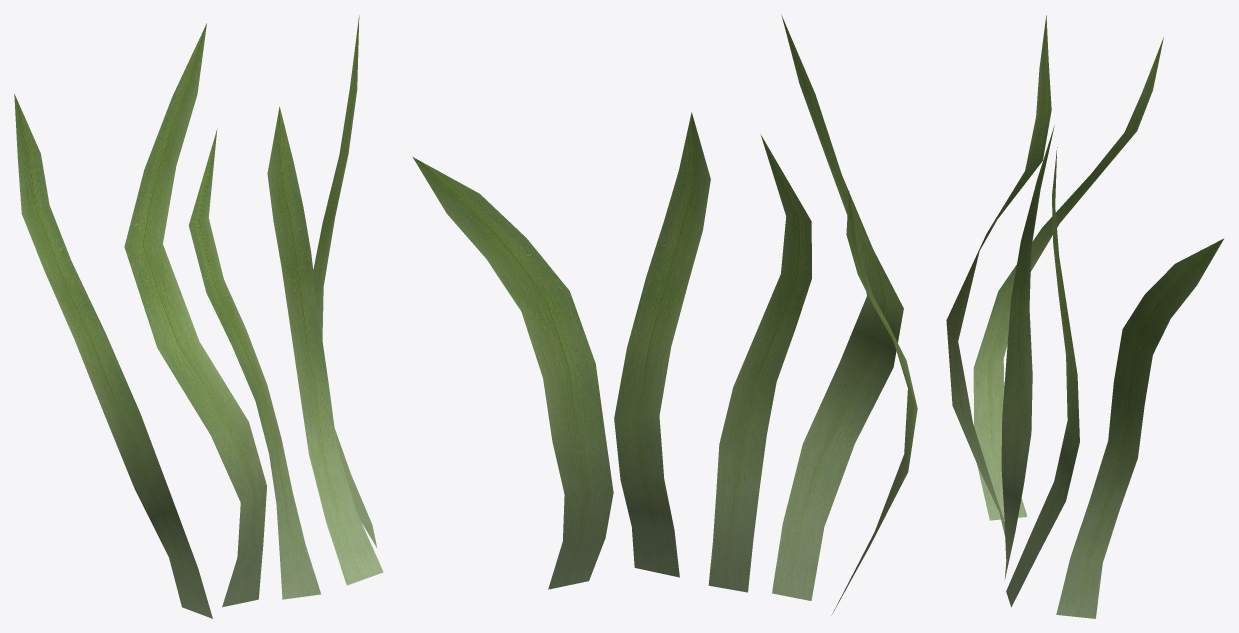
The model's file is grass_blades_0.fbx.
The picture shows the model from 3 angles, left to right: view 1: azimuth 30°, elevation 25°; view 2: azimuth 150°, elevation 25°; view 3: azimuth 270°, elevation 25°; orthographic projection. The views are drawn at different scales.
Visible parts, largest first — view 1: grass_blades_0; view 2: grass_blades_0; view 3: grass_blades_0.
Part boxes in pixels (x1,y1,x2,y2): grass_blades_0: (14, 15, 383, 618); grass_blades_0: (412, 15, 917, 615); grass_blades_0: (946, 15, 1224, 618).
Size of the model in its own units: 51.67 by 35.39 by 73.97.
